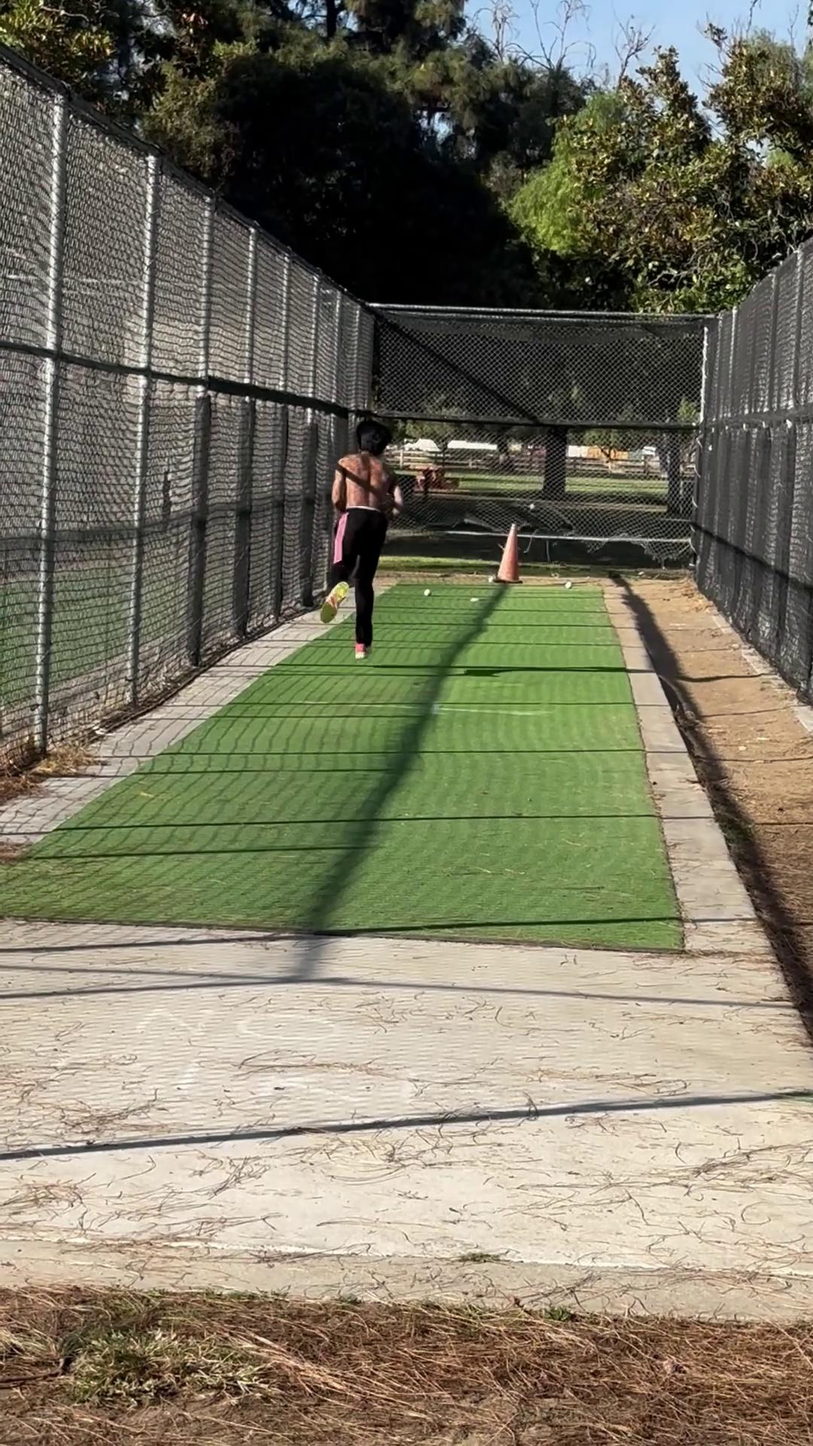ball: (525, 500, 540, 514)
